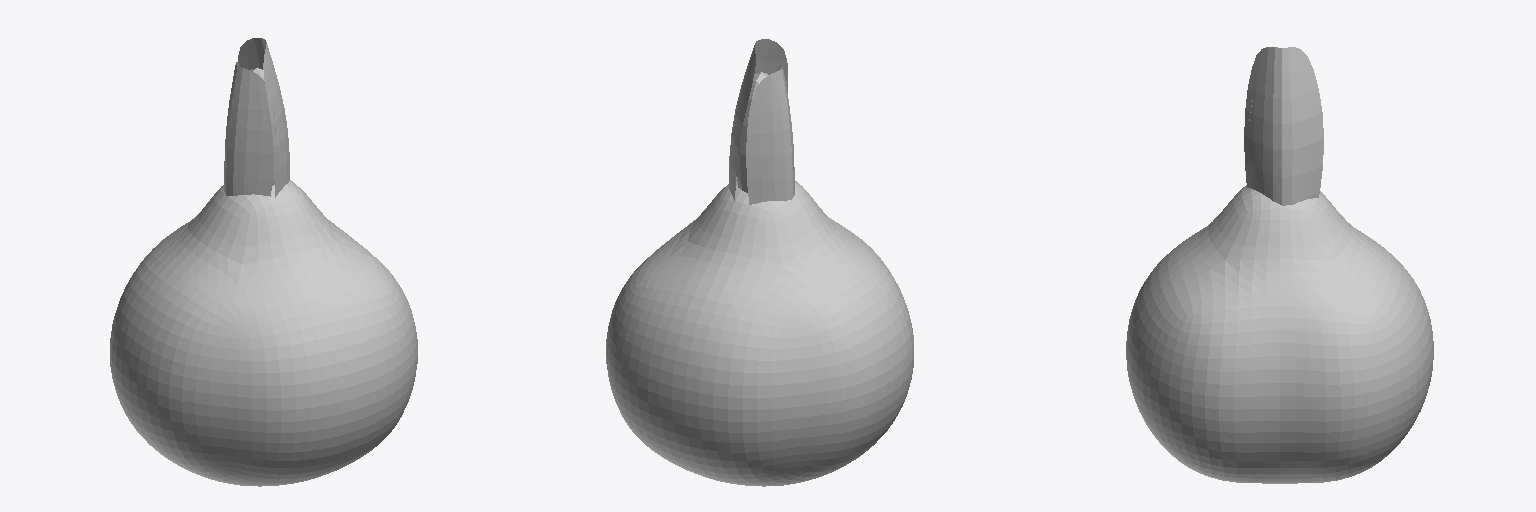
Rendered from LV2_Tulip.obj.
3 views of the same model, side by side, from view 1: azimuth 30°, elevation 25°; view 2: azimuth 150°, elevation 25°; view 3: azimuth 270°, elevation 25° (orthographic).
Visible parts, largest first — view 1: 튭립구근.001; view 2: 튭립구근.001; view 3: 튭립구근.001.
Part boxes in pixels (x1,y1,x2,y2): 튭립구근.001: (110,38,417,486); 튭립구근.001: (606,39,913,486); 튭립구근.001: (1126,47,1433,483).
Bounding box in the file's own units: 1.76 × 2.81 × 1.84.